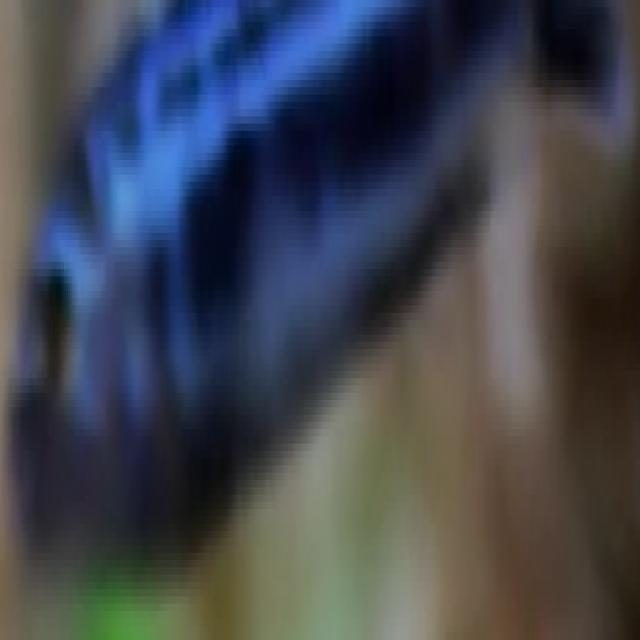fish: (0, 7, 638, 640)
